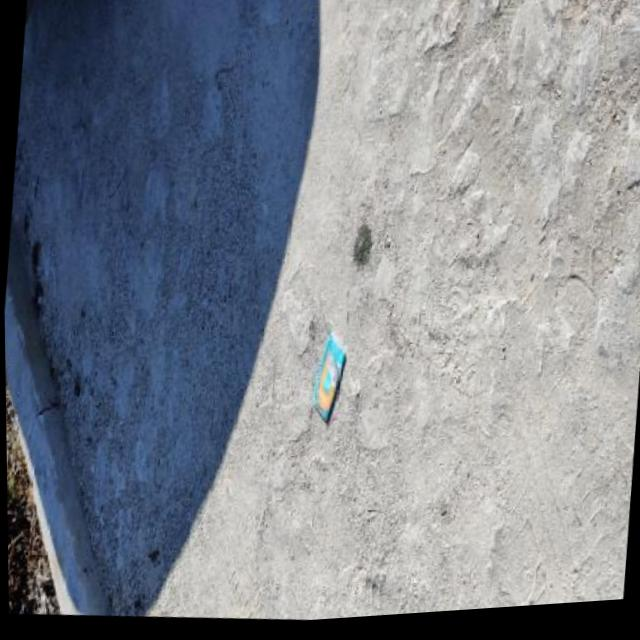plastic: (310, 327, 347, 420)
